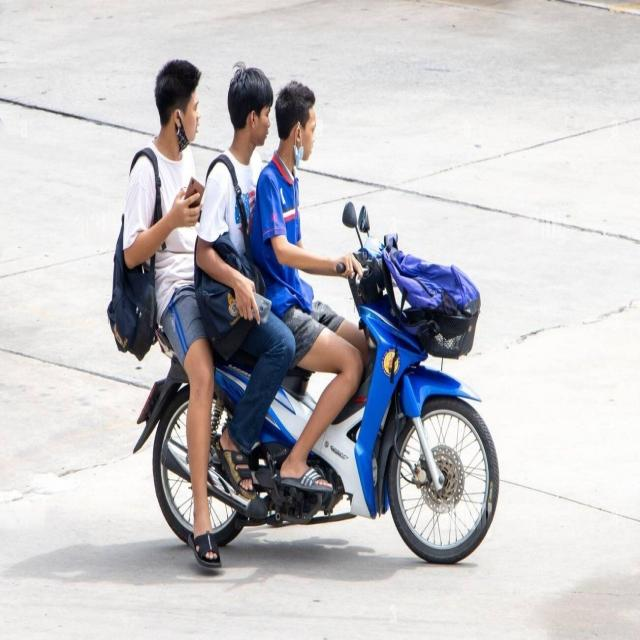Face and Hair: (150, 54, 207, 158), (224, 56, 274, 152), (271, 72, 319, 172)
